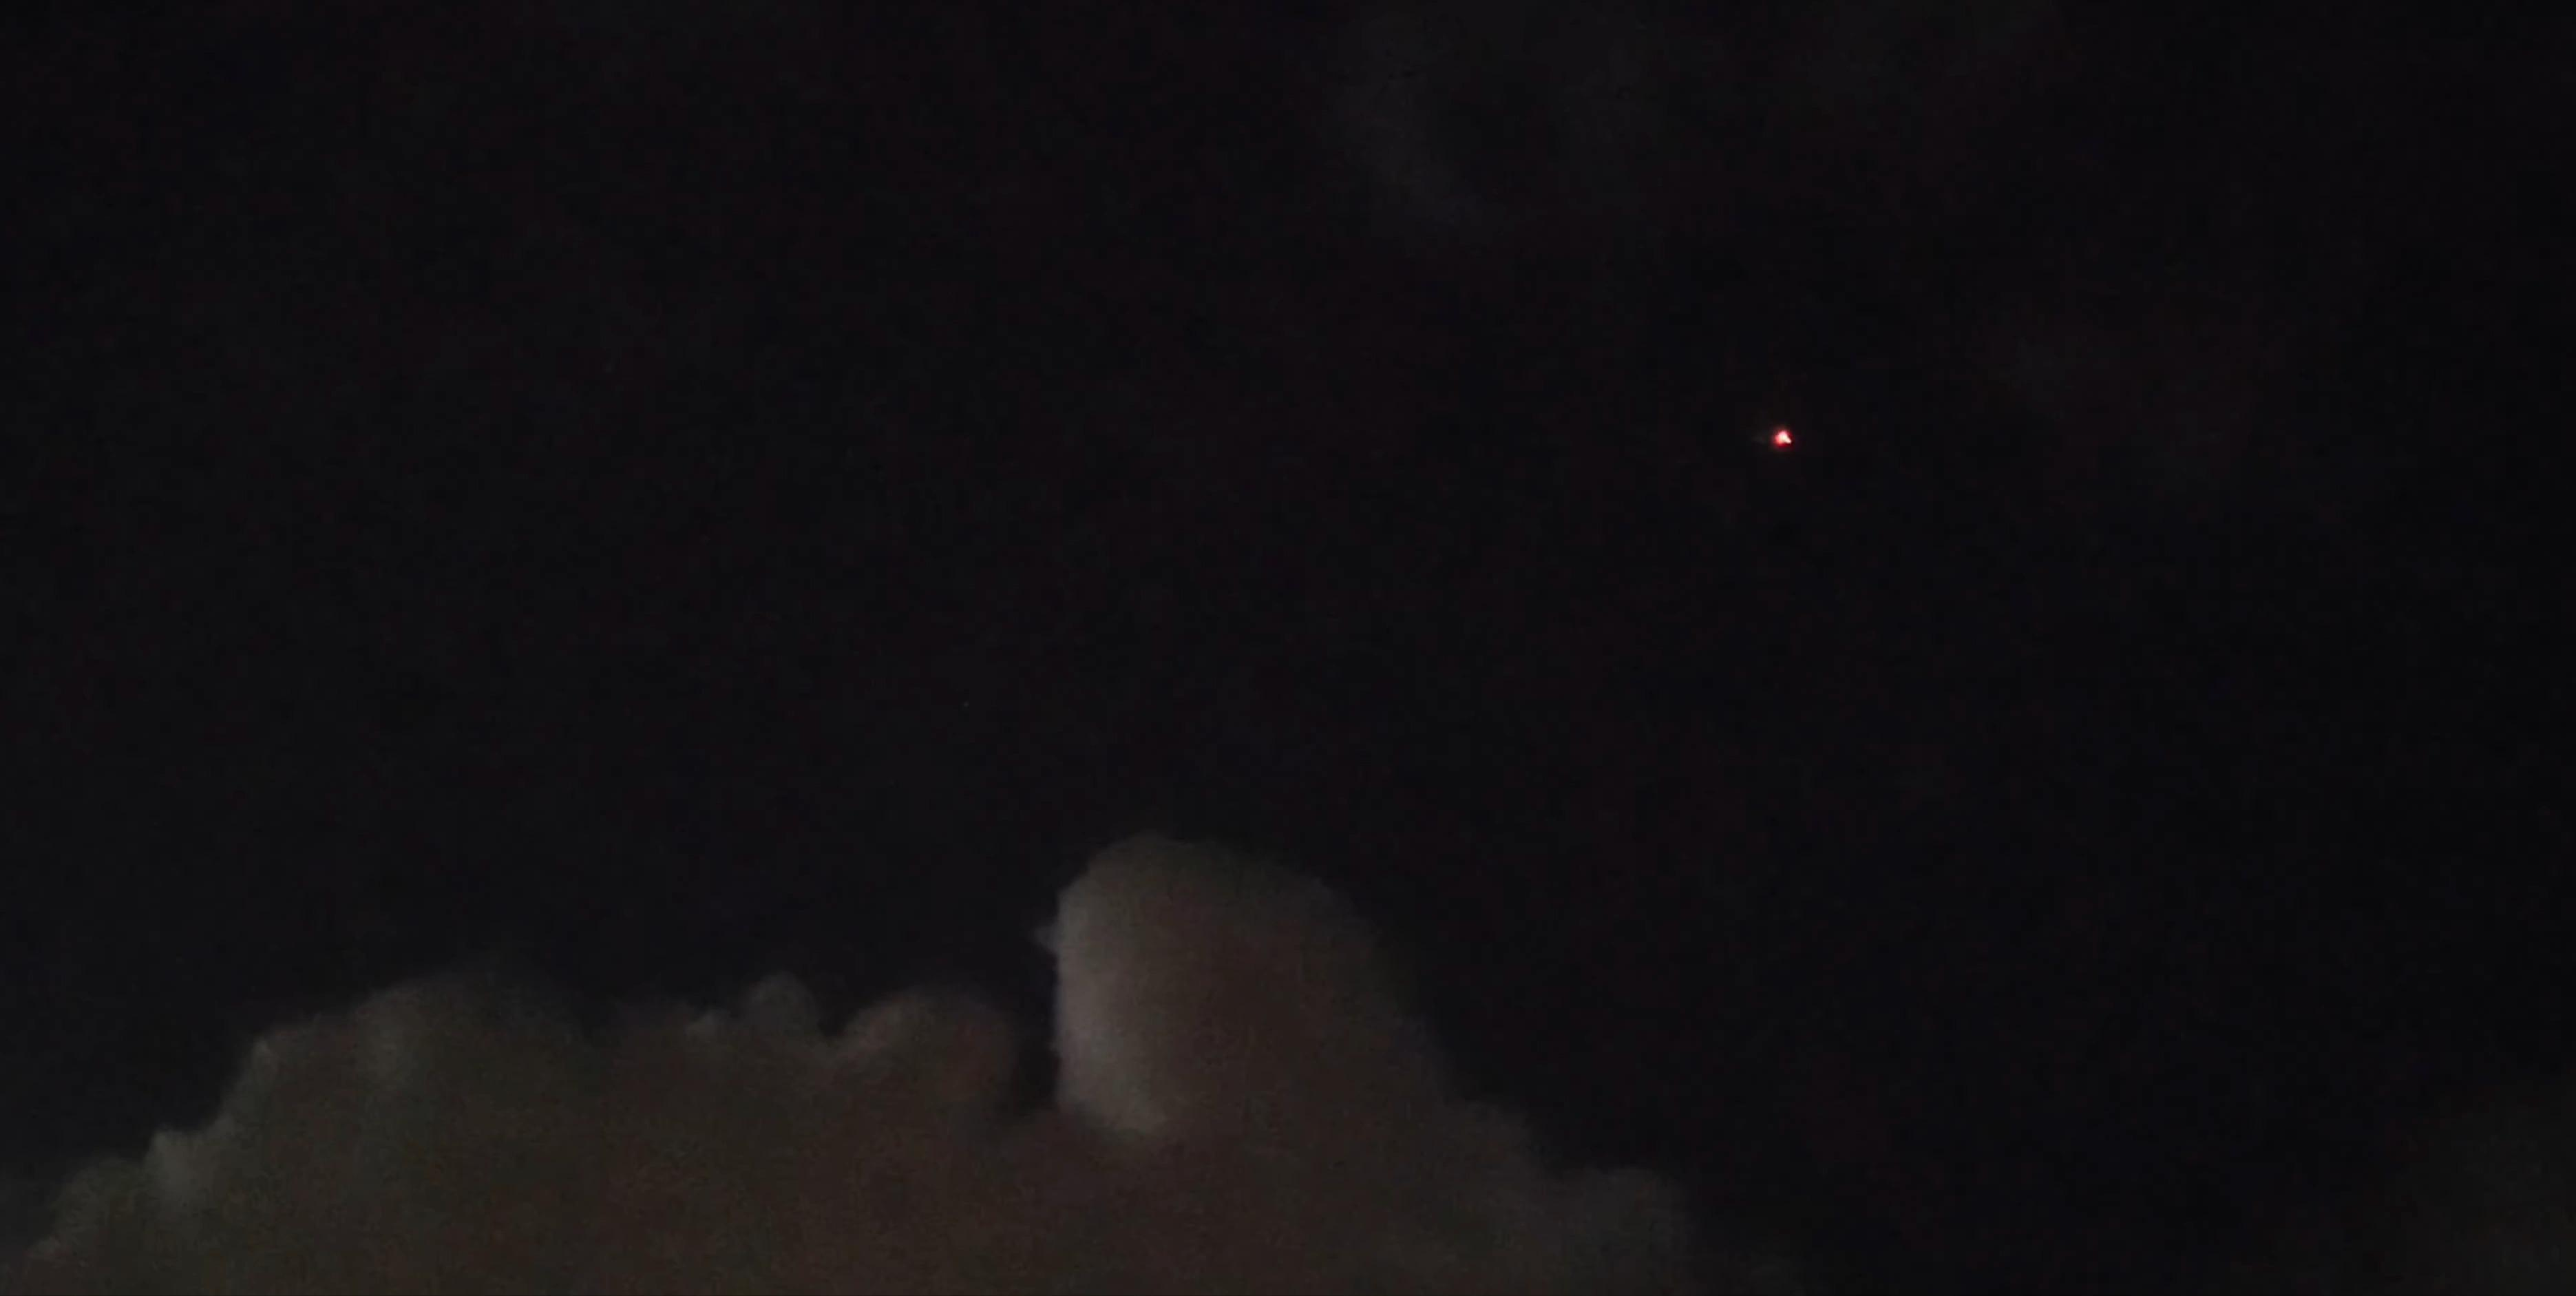Plane: (1712, 402, 1869, 479)
